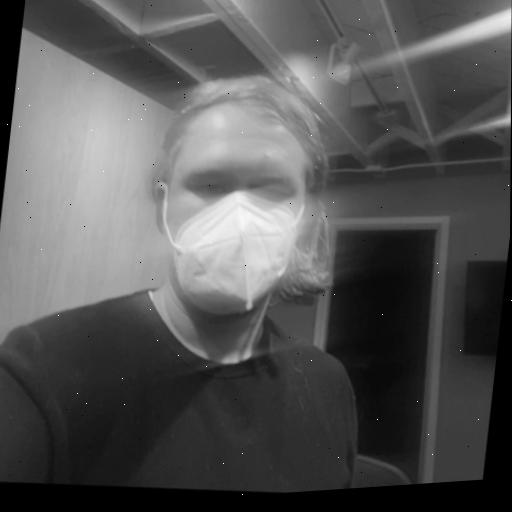mask: (141, 73, 367, 354)
